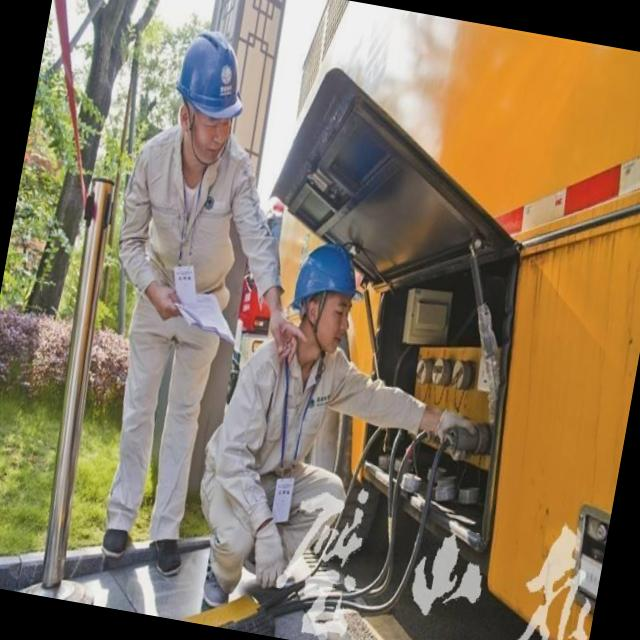helmet: (171, 24, 254, 124), (284, 238, 366, 334)
no-vest: (210, 332, 349, 577), (104, 132, 250, 358)
